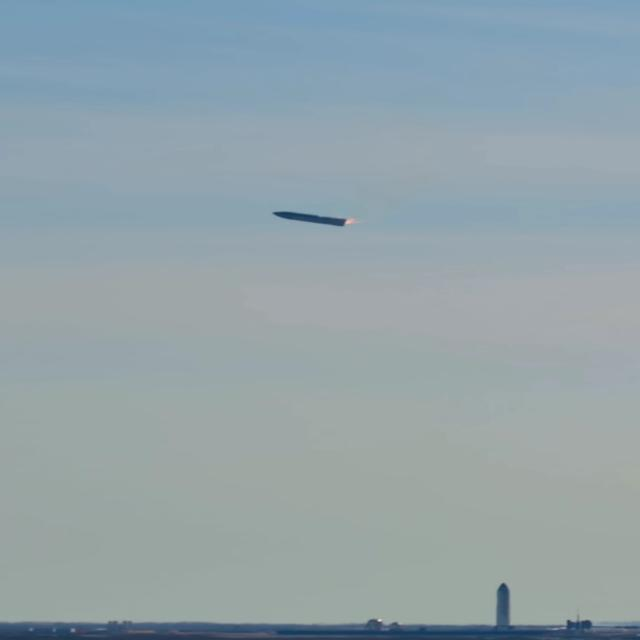Missile: (272, 205, 356, 233)
